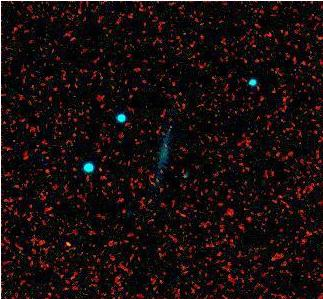star: (50, 230, 80, 260)
